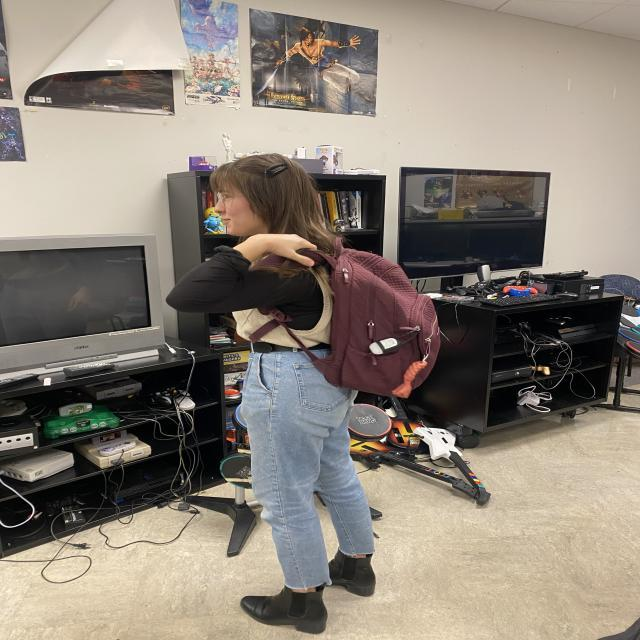Backpacks: (330, 244, 446, 402)
